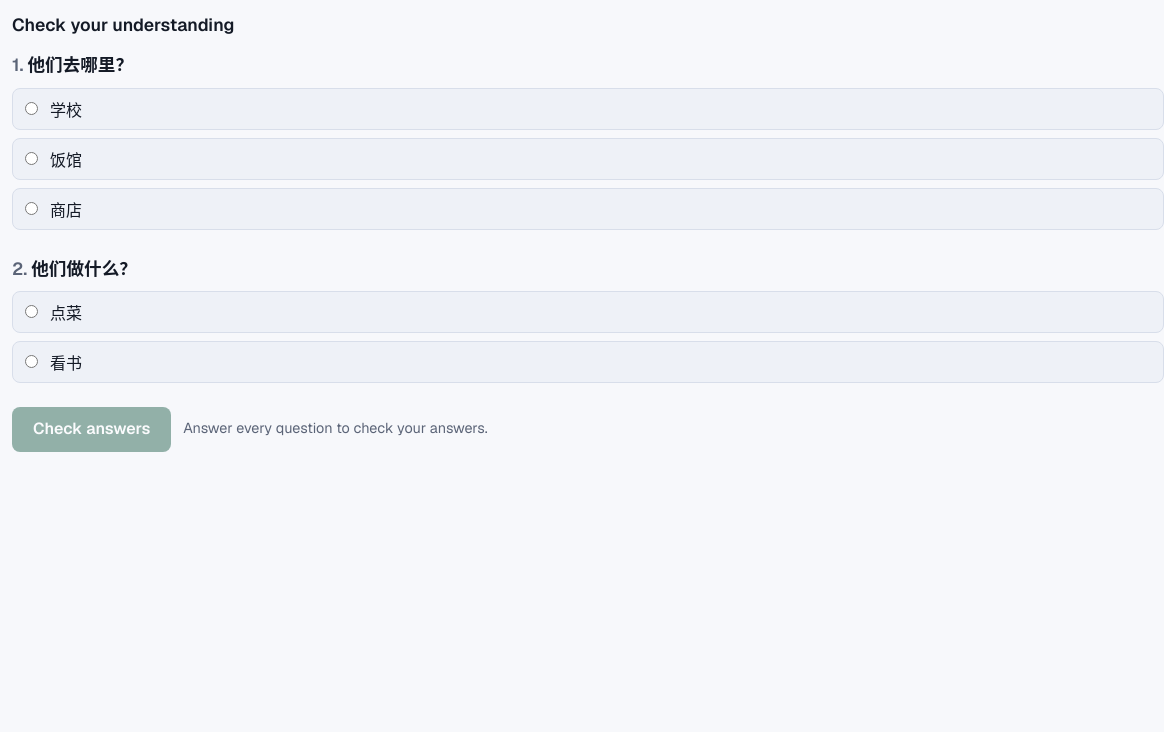
StoryQuiz › says so and lets you retry when reporting fails
Click the radio button labelled "饭馆" at (32, 158), box [25, 152, 38, 165]
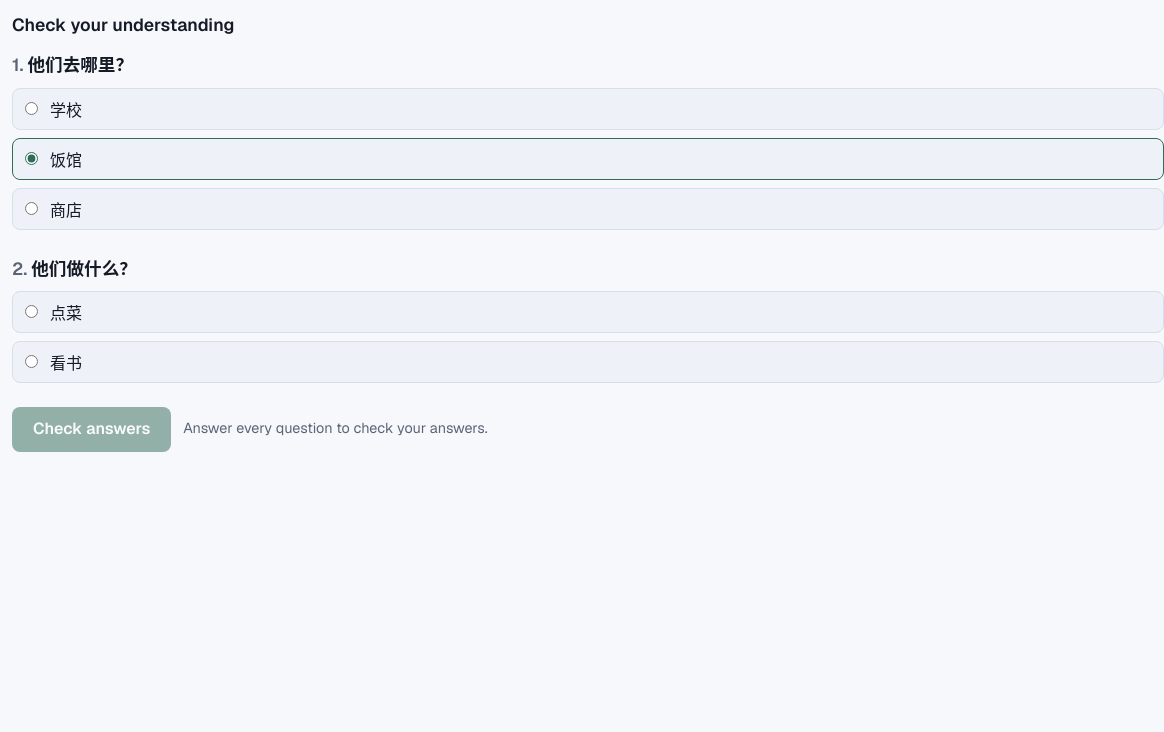
Click the radio button labelled "看书" at (32, 362), box [25, 355, 38, 368]
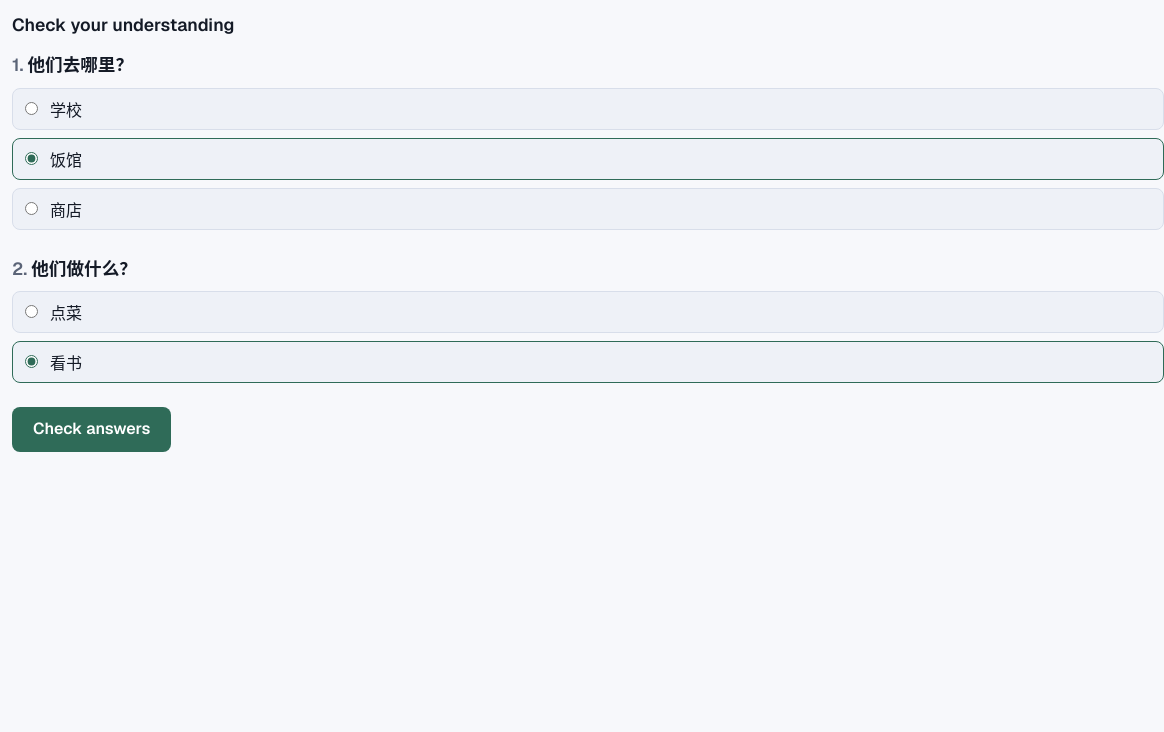
Click the button "Check answers" at (92, 429), box [12, 407, 171, 452]
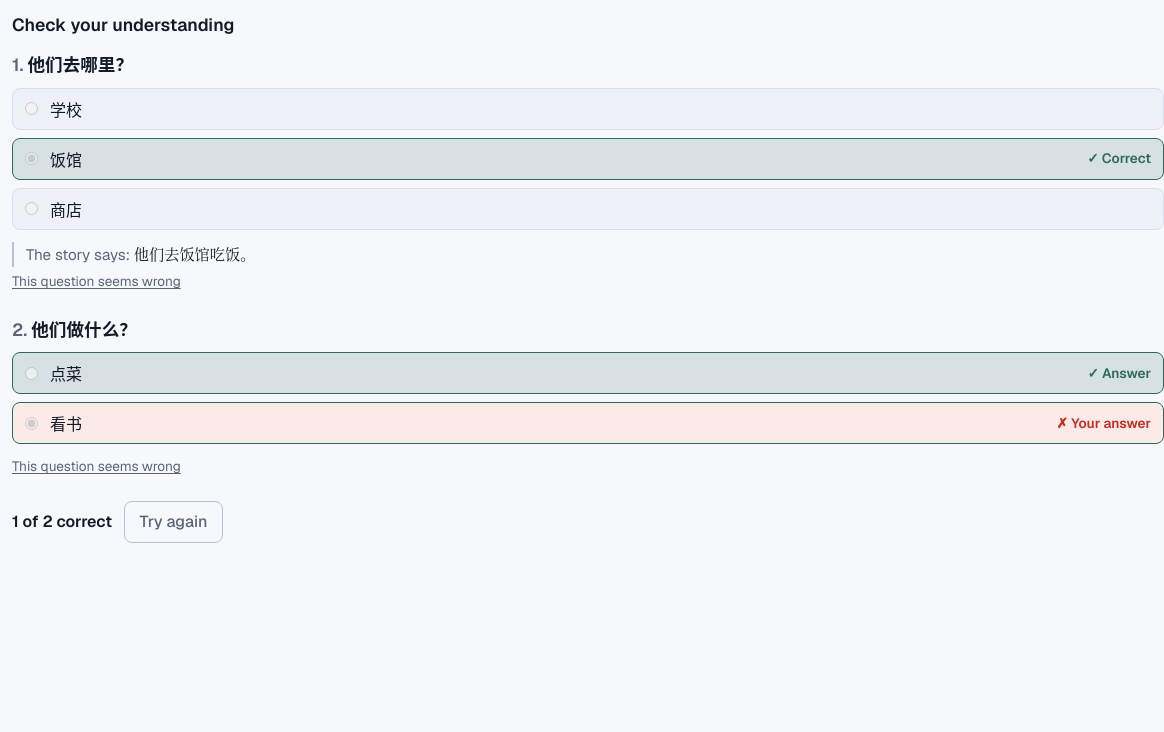
Check: the text "1 of 2 correct" is shown, box [12, 510, 112, 534]
Click the button "This question seems wrong" below "The story says:" at (96, 281), box [12, 271, 181, 291]
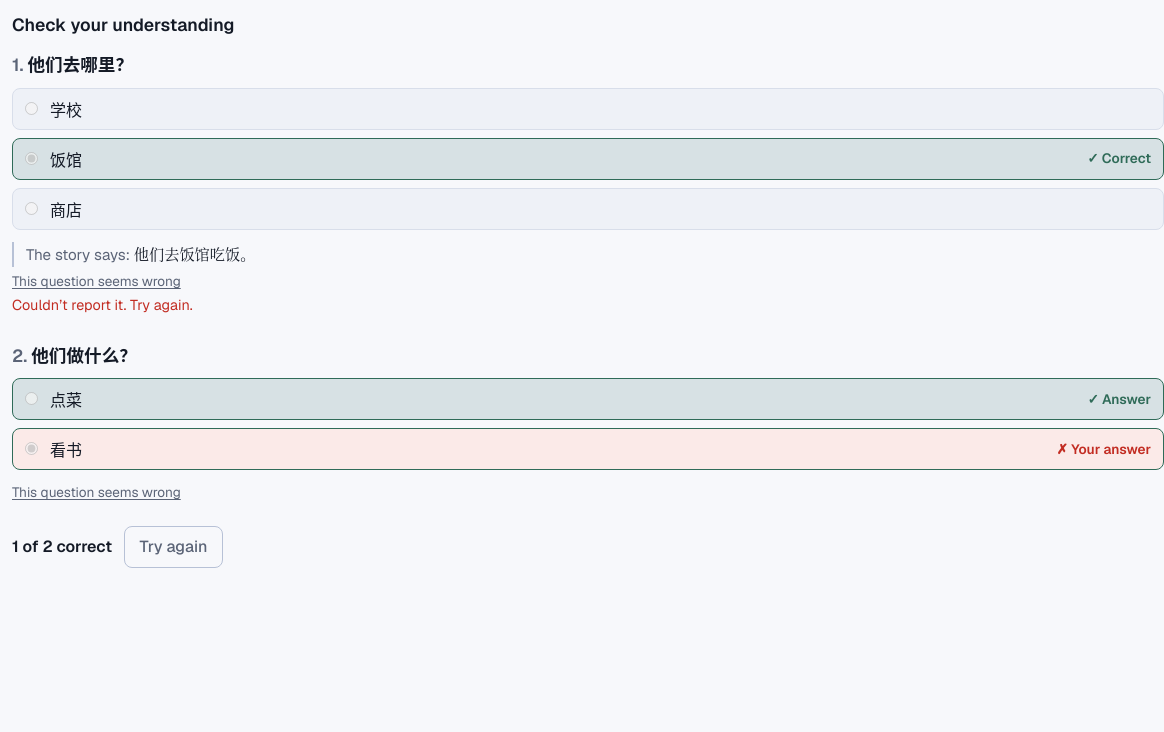
Check: the button "This question seems wrong" below "The story says:" is enabled, box [12, 271, 181, 291]
Check: the message "Couldn’t report it. Try again." is shown, box [12, 295, 193, 317]
